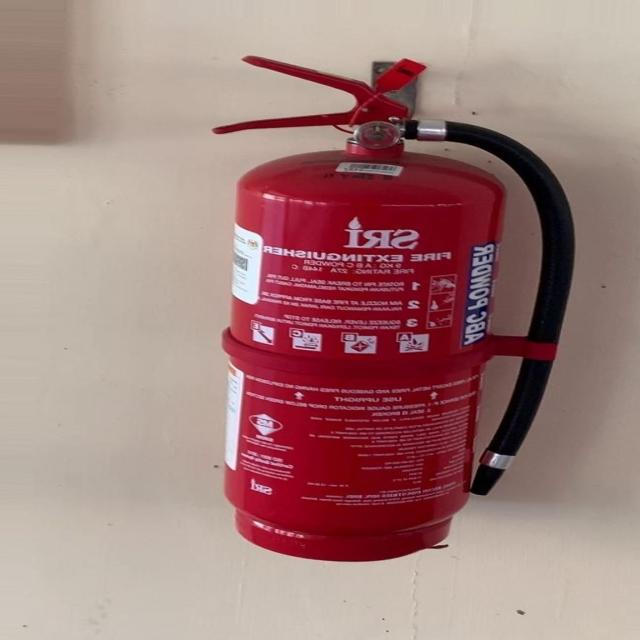fire_extinguisher: (204, 51, 579, 565)
